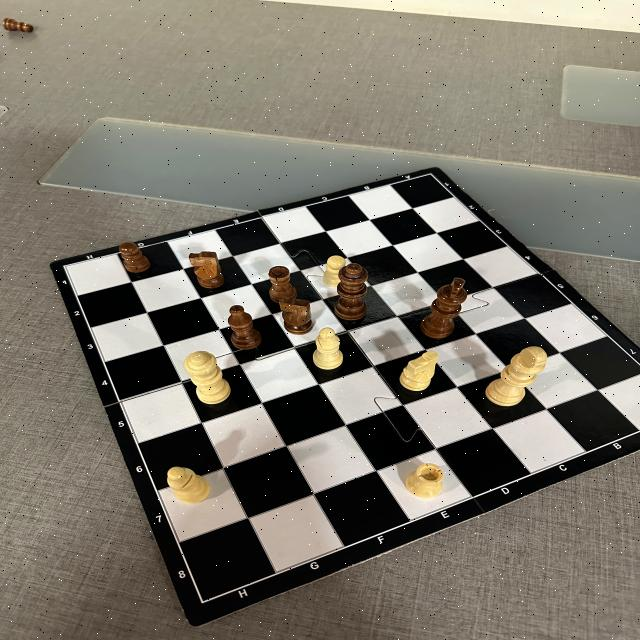Black-Bishop: (228, 304, 262, 350)
Black-King: (420, 277, 468, 339)
Black-Knight: (188, 250, 226, 288), (280, 297, 314, 335)
Black-Pawn: (119, 243, 152, 273), (1, 17, 38, 33)
Black-Queen: (333, 263, 369, 321)
Black-Rook: (268, 266, 298, 304)
White-Bishop: (167, 466, 211, 504), (312, 328, 343, 370)
White-King: (486, 346, 548, 406)
White-Knight: (400, 350, 440, 391)
White-Pawn: (323, 255, 346, 287)
White-Queen: (184, 350, 232, 404)
White-Rook: (405, 462, 444, 498)
